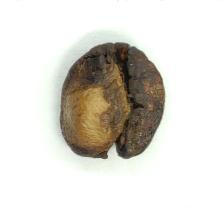NG: (59, 41, 164, 158)
